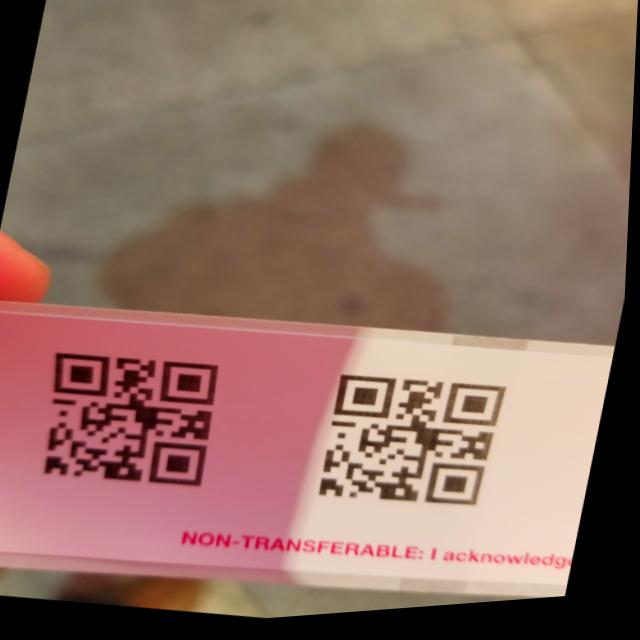QR_CODE: (22, 325, 243, 516), (300, 356, 518, 540)
